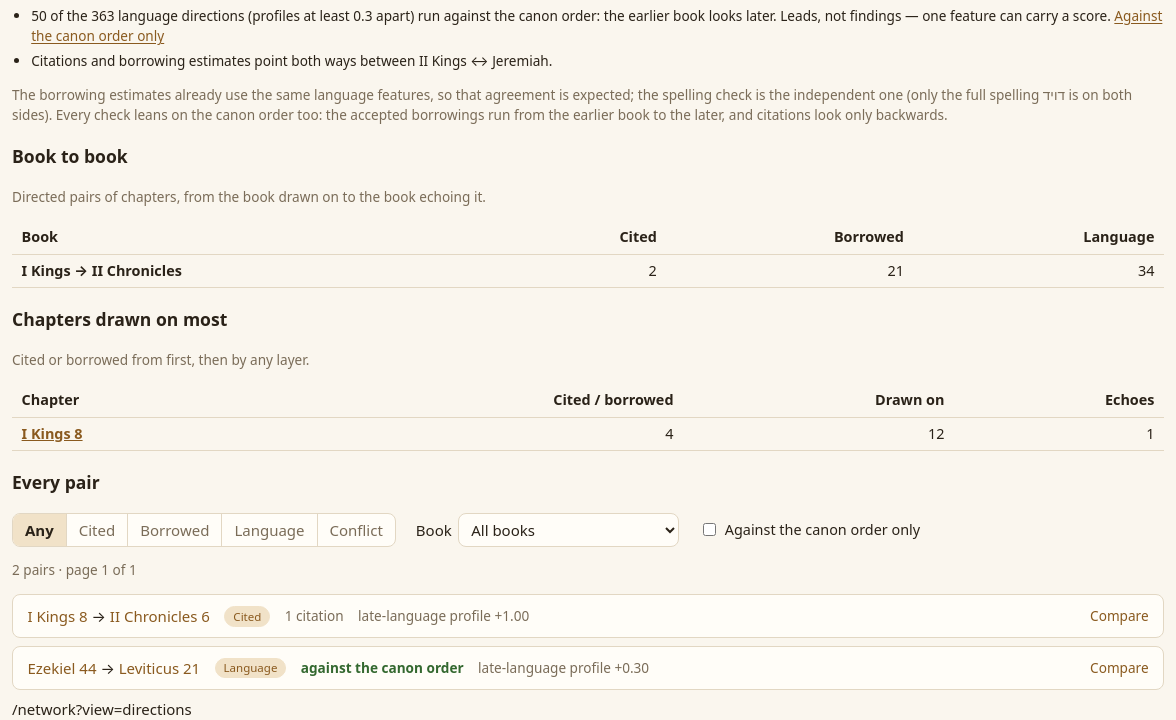
Test case: DirectionsView › shows the checks, the book graph and each pair with its direction and evidence
(page scrolled)
Expected: the list item "50 of the 363 language directions" is shown, [31,6,1111,25]
Expected: the list item "point both ways between II Kings ↔ Jeremiah" is shown, [31,51,552,70]
Click the radio button labelled "Conflict".
click(356, 530)  # box [316,514,395,546]
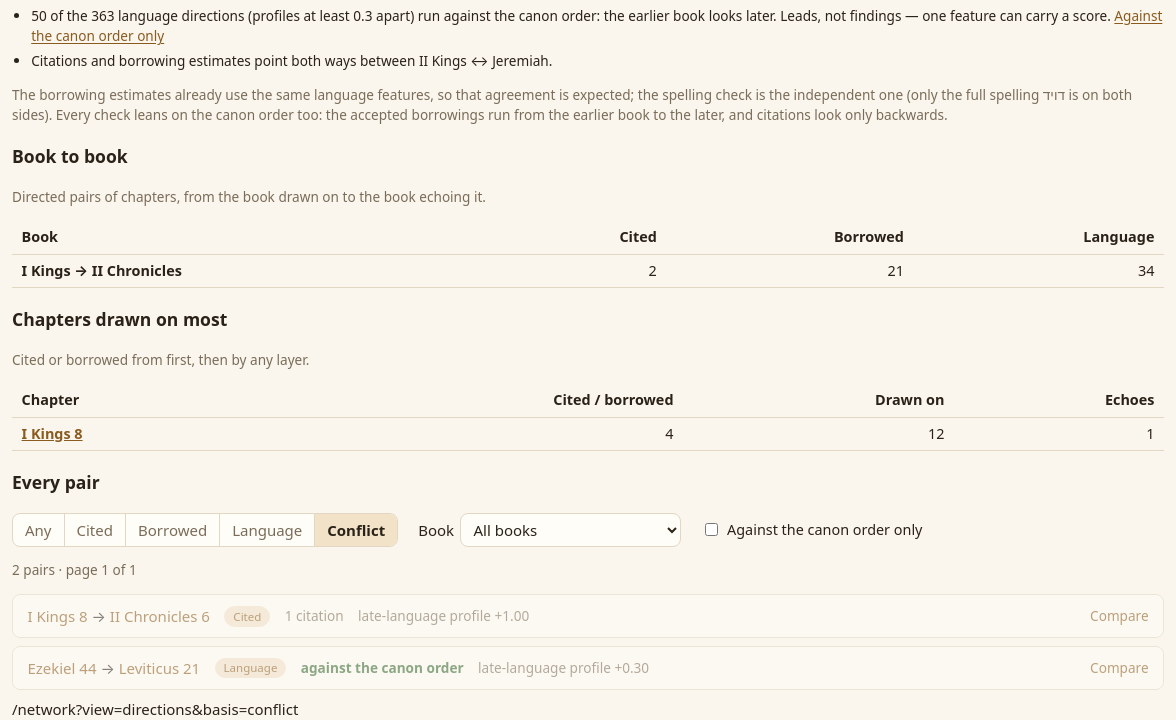
Click the checkbox labelled "Against the canon order only".
click(712, 530)  # box [706,523,718,536]
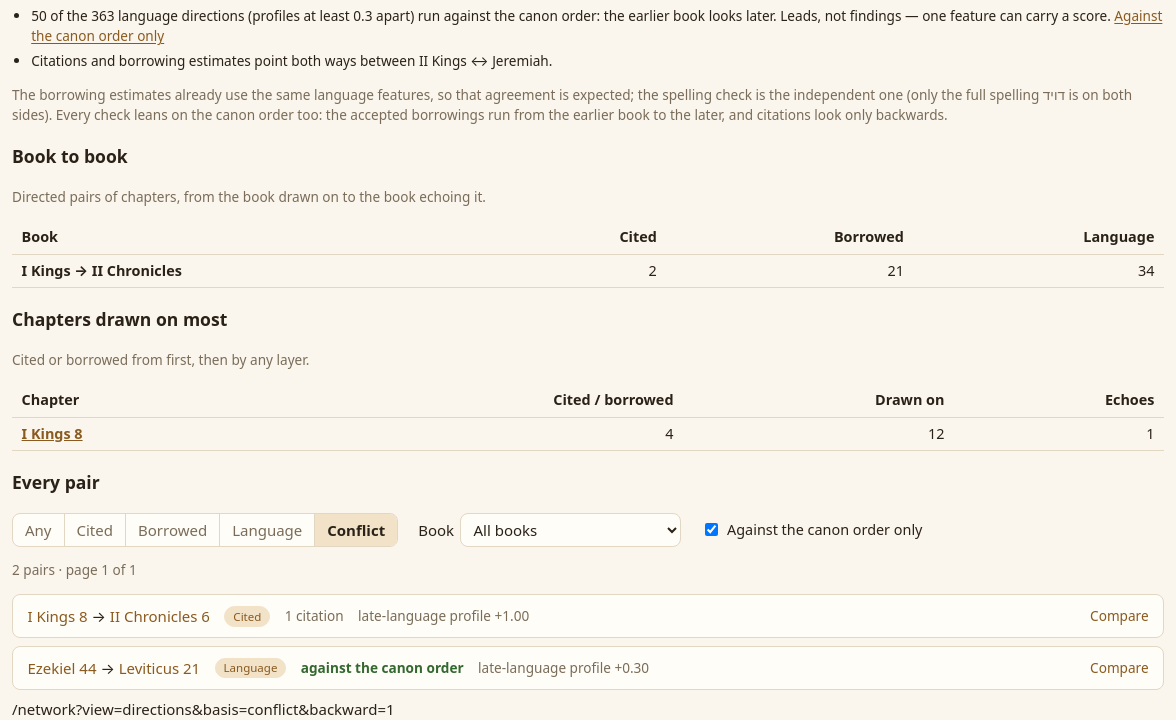
Expected: the text with test id "loc" reads "/network?view=directions&basis=conflict&backward=1", [12,699,395,719]
